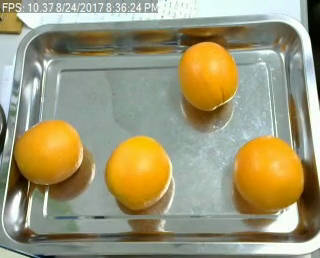Orange: (233, 136, 304, 210), (106, 135, 172, 211), (13, 119, 82, 184), (177, 41, 239, 110)
